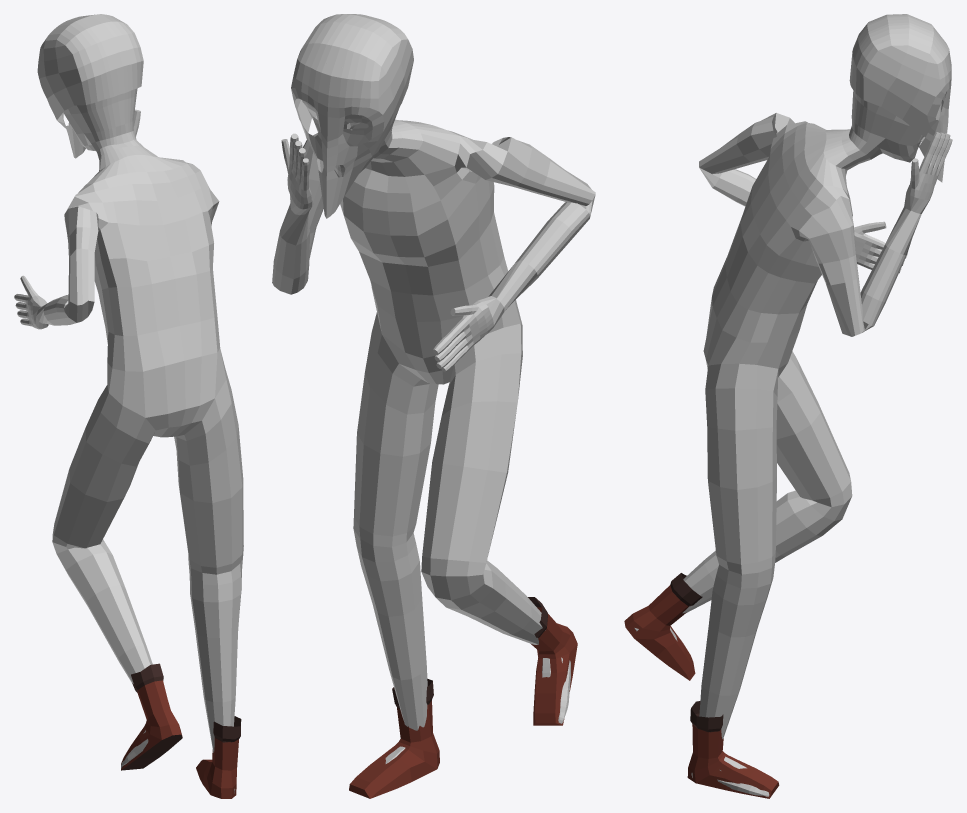
File: correr_000139.obj
3 renders of one model, left to right at view 1: azimuth 30°, elevation 25°; view 2: azimuth 150°, elevation 25°; view 3: azimuth 270°, elevation 25°, orthographic. The views are drawn at different scales.
Visible parts, largest first — view 1: Plane.002_Plane.001, Plane.004, Plane.003; view 2: Plane.002_Plane.001, Plane.003, Plane.004; view 3: Plane.002_Plane.001, Plane.004, Plane.003.
Part boxes in pixels (bbox=[...]): Plane.002_Plane.001: bbox=[14, 14, 243, 793]; Plane.004: bbox=[121, 663, 182, 770]; Plane.003: bbox=[196, 716, 241, 798]; Plane.002_Plane.001: bbox=[272, 14, 595, 763]; Plane.003: bbox=[349, 678, 439, 798]; Plane.004: bbox=[528, 597, 577, 725]; Plane.002_Plane.001: bbox=[634, 14, 952, 796]; Plane.004: bbox=[624, 573, 702, 680]; Plane.003: bbox=[687, 701, 779, 798].
Size of the model in its own units: 2 by 6.74 by 2.7.
